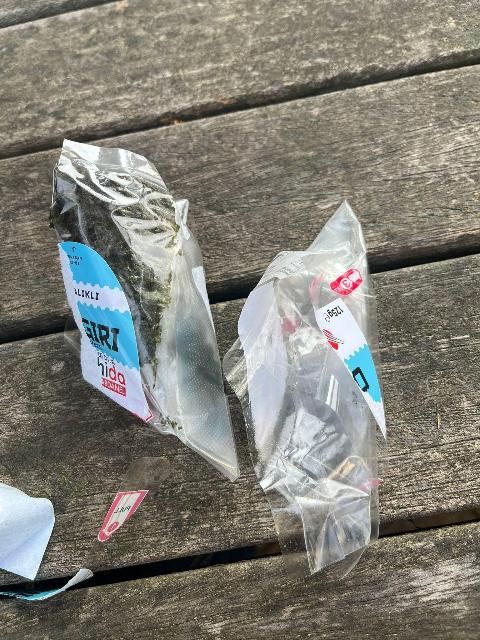Plastik: (11, 122, 245, 498), (225, 211, 412, 583), (0, 441, 158, 614)
